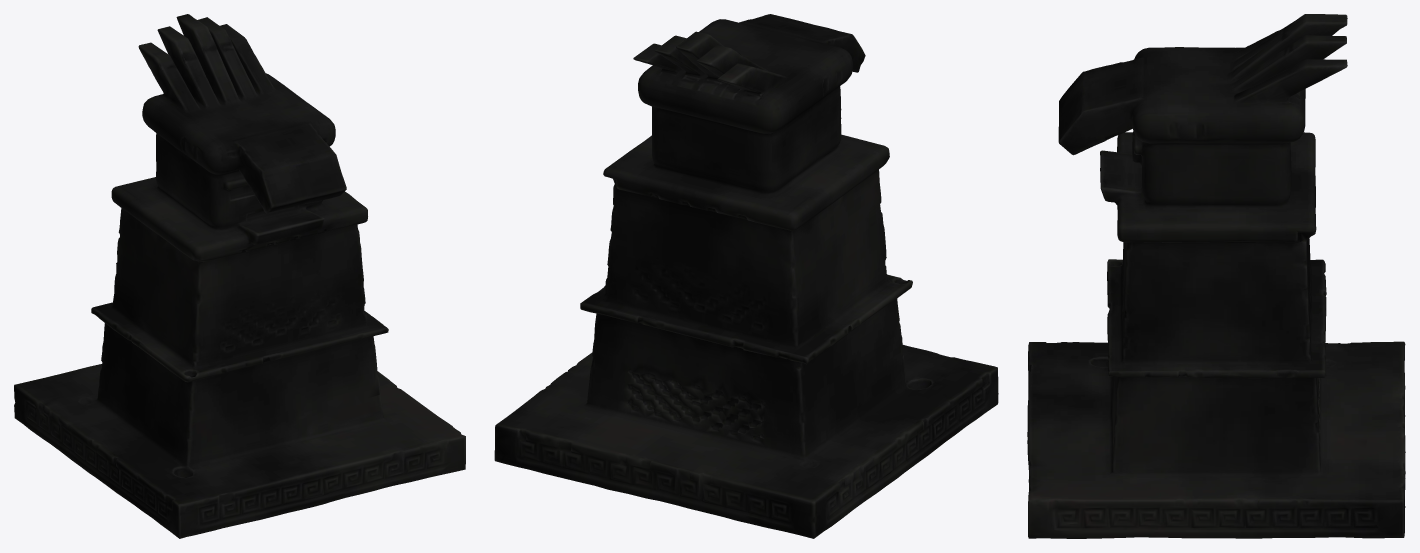
Rendered from bishop-basalt.glb.
3 views of the same model, side by side, from view 1: azimuth 30°, elevation 25°; view 2: azimuth 150°, elevation 25°; view 3: azimuth 270°, elevation 25° (orthographic). The views are drawn at different scales.
Visible parts, largest first — view 1: bishop; view 2: bishop; view 3: bishop.
Boxes of the visible parts, left/top/right/bottom form: bishop: left=14, top=14, right=465, bottom=538; bishop: left=494, top=14, right=998, bottom=538; bishop: left=1027, top=14, right=1405, bottom=538.
Bounding box in the file's own units: 0.7629 × 0.9823 × 0.7632.
1 material, 1 textured.
